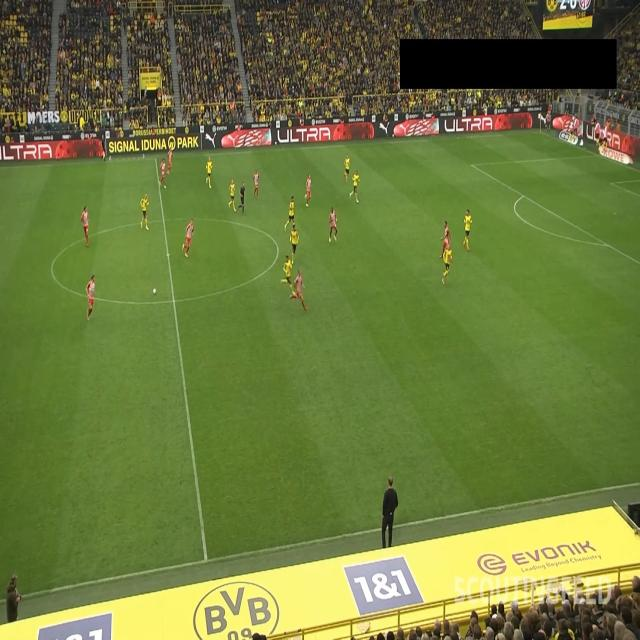ball: (153, 287, 157, 295)
